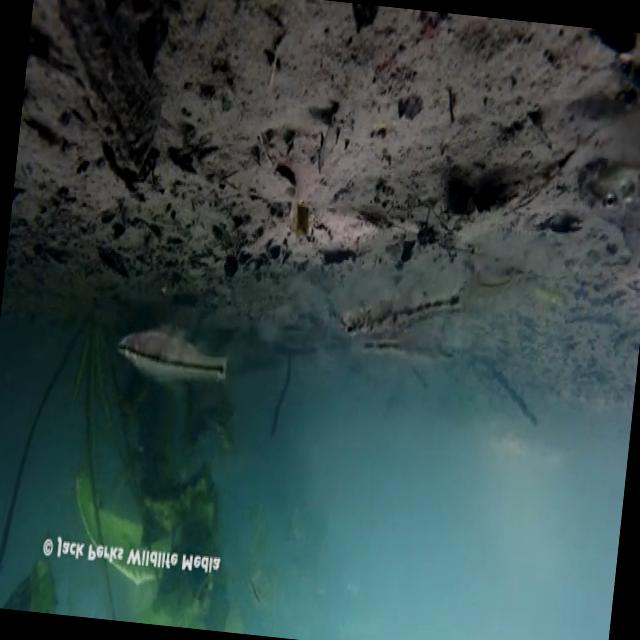Cakil Baligi: (110, 324, 252, 396)
